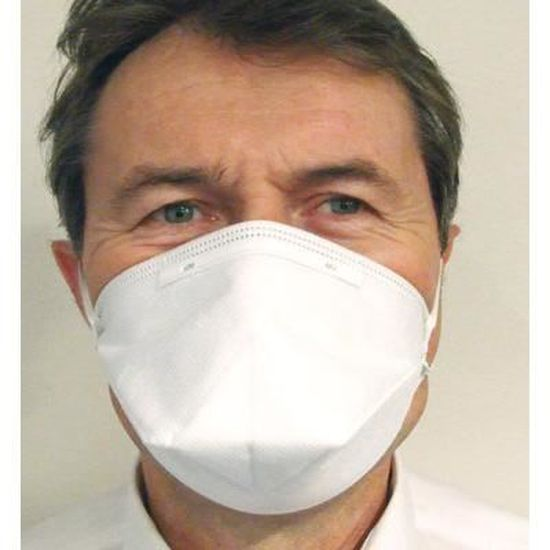with_mask: (100, 87, 427, 396)
